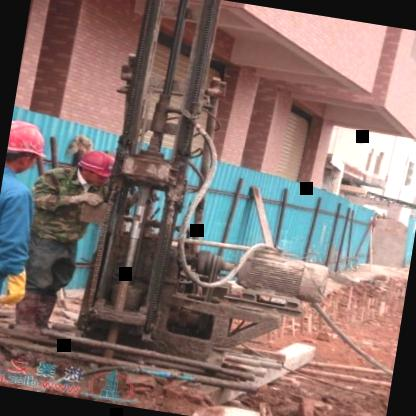helmet: (3, 117, 50, 176), (75, 146, 116, 190)
